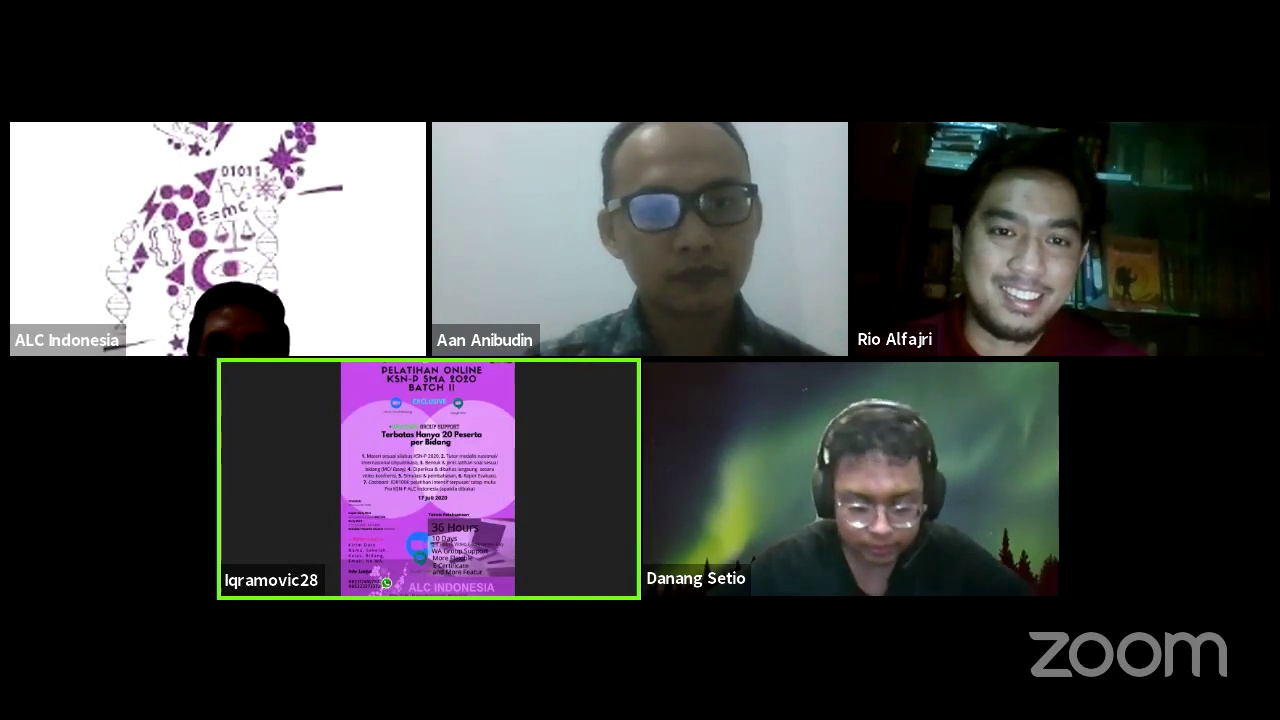Distracted: (802, 410, 949, 565)
Not Distracted: (595, 137, 776, 311), (942, 146, 1098, 334), (183, 287, 299, 356)
